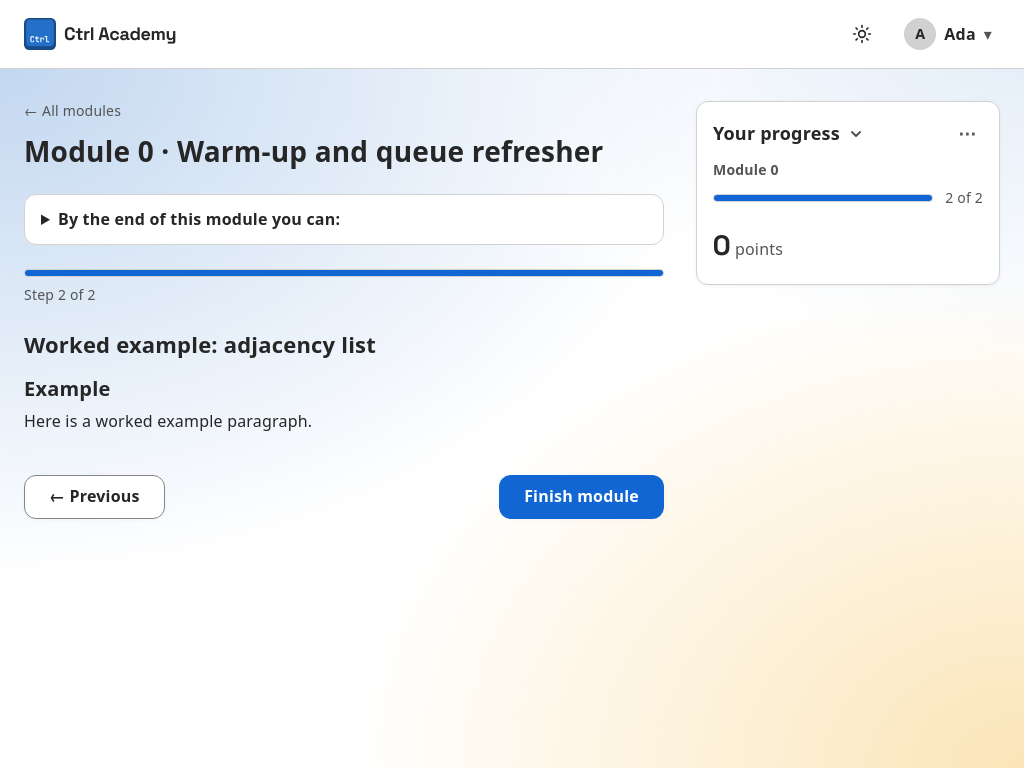
Scenario: ModulePage — navigation and position saving › clicking "Finish module" on the last segment saves the position and navigates to "/"
// Click Finish module — this fires savePosition and then navigates to '/'.
Click the button "Finish module": coordinates (582, 496) [499,474,664,518]
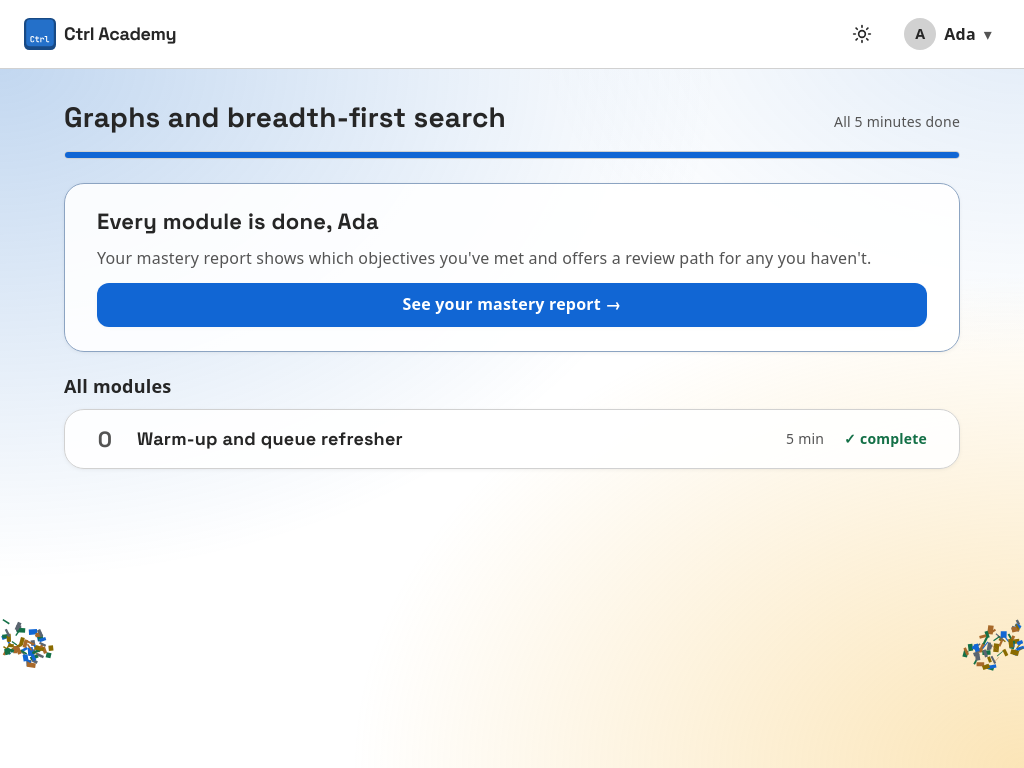
Now the heading "Graphs and breadth-first search" is shown, box [64,101,506,135]
